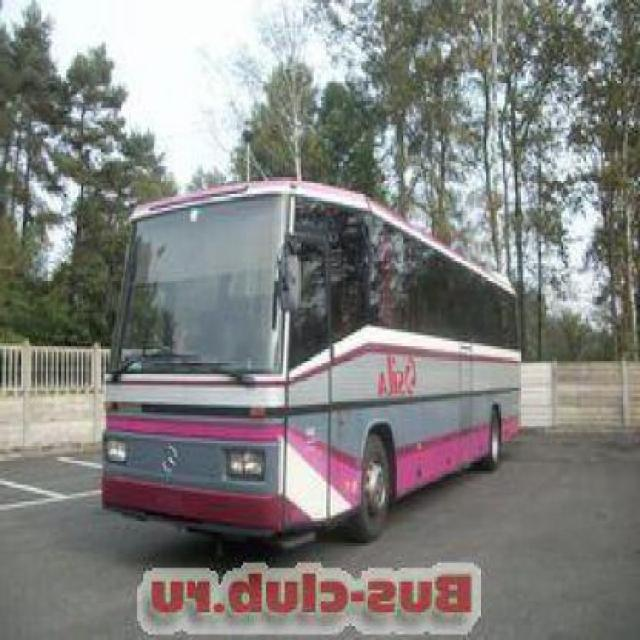bus: (105, 176, 521, 541)
